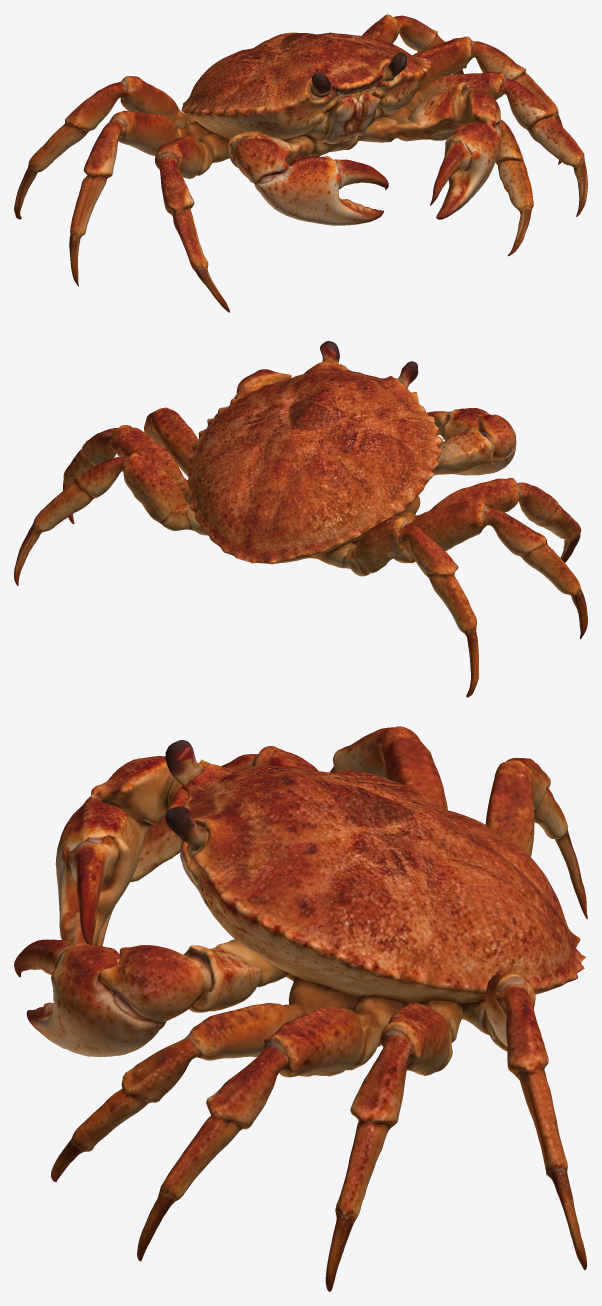
File: crab+3d+model.glb
3 renders of one model, top to bottom at view 1: azimuth 30°, elevation 25°; view 2: azimuth 150°, elevation 25°; view 3: azimuth 270°, elevation 25°, orthographic. The views are drawn at different scales.
Visible parts, largest first — view 1: tripo_node_82705904-9426-4666-939b-aa2e3a5ab00b; view 2: tripo_node_82705904-9426-4666-939b-aa2e3a5ab00b; view 3: tripo_node_82705904-9426-4666-939b-aa2e3a5ab00b.
Part boxes in pixels (x1,y1,x2,y2): tripo_node_82705904-9426-4666-939b-aa2e3a5ab00b: [14, 14, 587, 312]; tripo_node_82705904-9426-4666-939b-aa2e3a5ab00b: [14, 341, 587, 697]; tripo_node_82705904-9426-4666-939b-aa2e3a5ab00b: [14, 726, 587, 1291].
Bounding box in the file's own units: 0.9988 × 0.3712 × 0.5986.
1 material, 1 textured.
